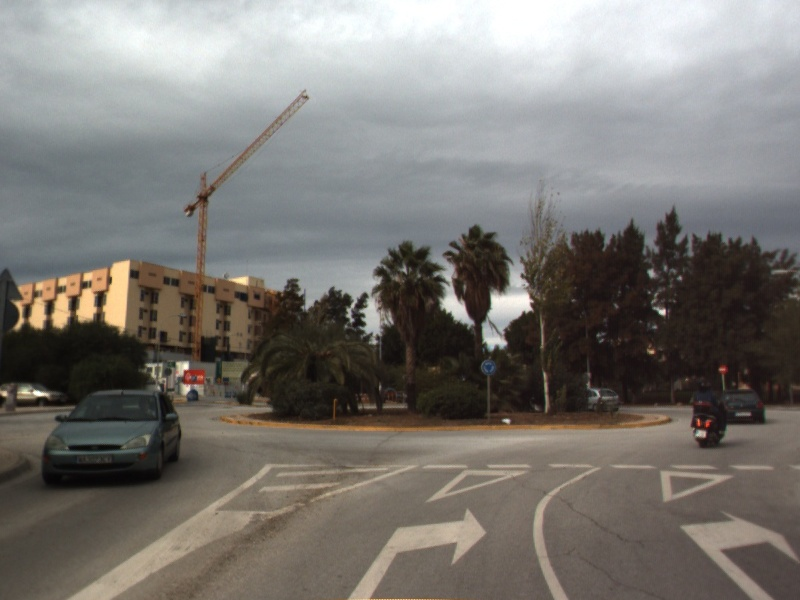RIGHT: (343, 502, 491, 600), (676, 505, 800, 600)
